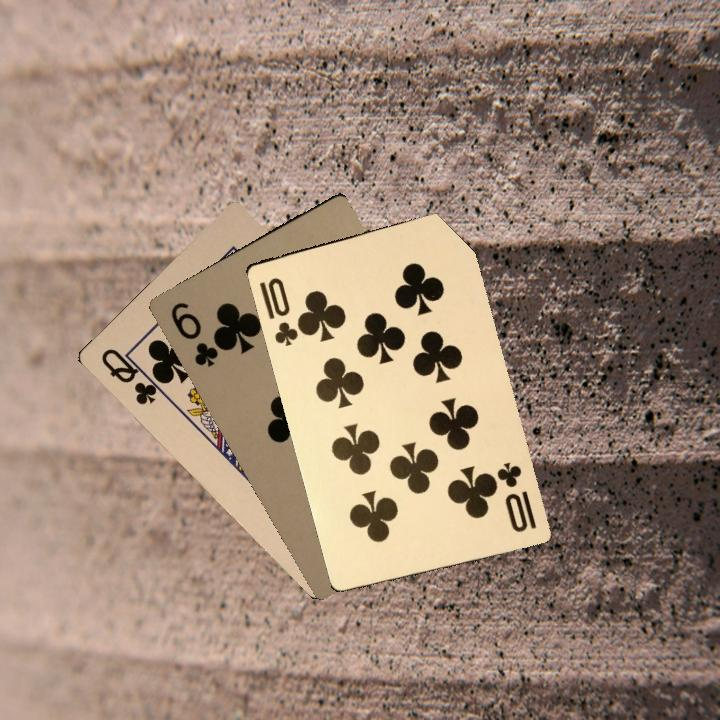10c: (490, 458, 540, 535), (255, 273, 301, 349)
6c: (166, 297, 221, 370)
Qc: (97, 344, 168, 408)
